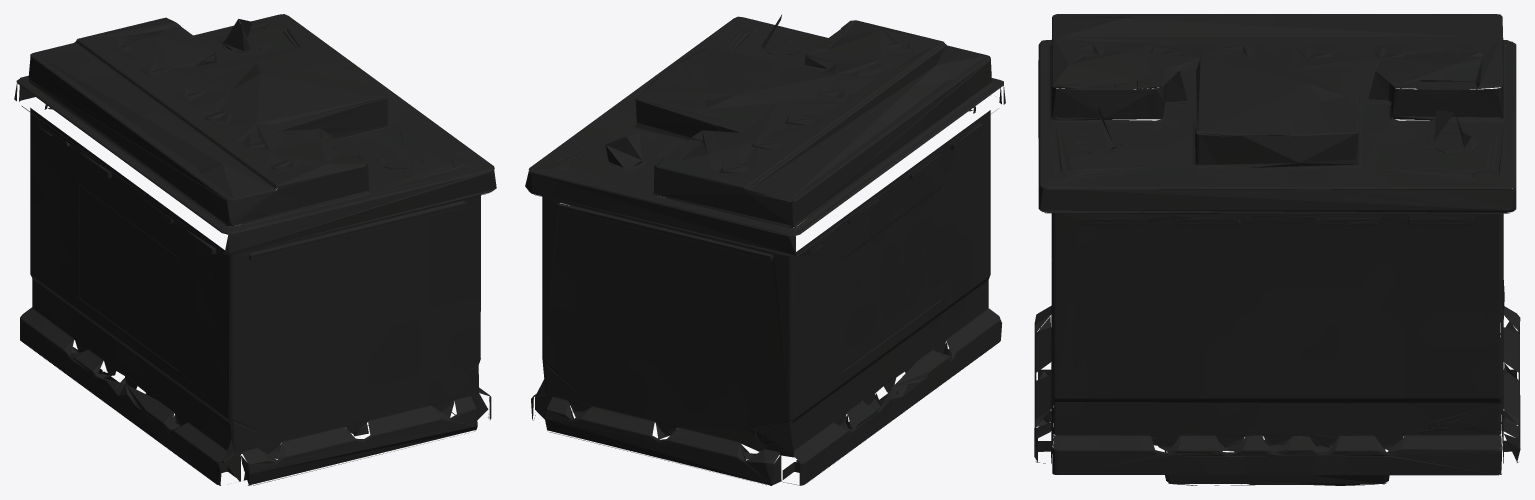
File: electricalSystem_battery_a01.glb
3 views of the same model, side by side, from view 1: azimuth 30°, elevation 25°; view 2: azimuth 150°, elevation 25°; view 3: azimuth 270°, elevation 25° (orthographic). The views are drawn at different scales.
Visible parts, largest first — view 1: geometry_0; view 2: geometry_0; view 3: geometry_0.
Part boxes in pixels (x1,y1,x2,y2): geometry_0: [14, 14, 496, 485]; geometry_0: [525, 15, 1005, 485]; geometry_0: [1034, 14, 1520, 485].
Bounding box in the file's own units: 0.3082 × 0.332 × 0.42.
Materials: 1 (1 with a texture image).
